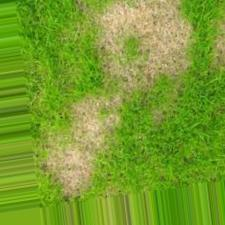patch: (97, 2, 186, 65), (68, 91, 120, 132), (47, 140, 96, 181)
